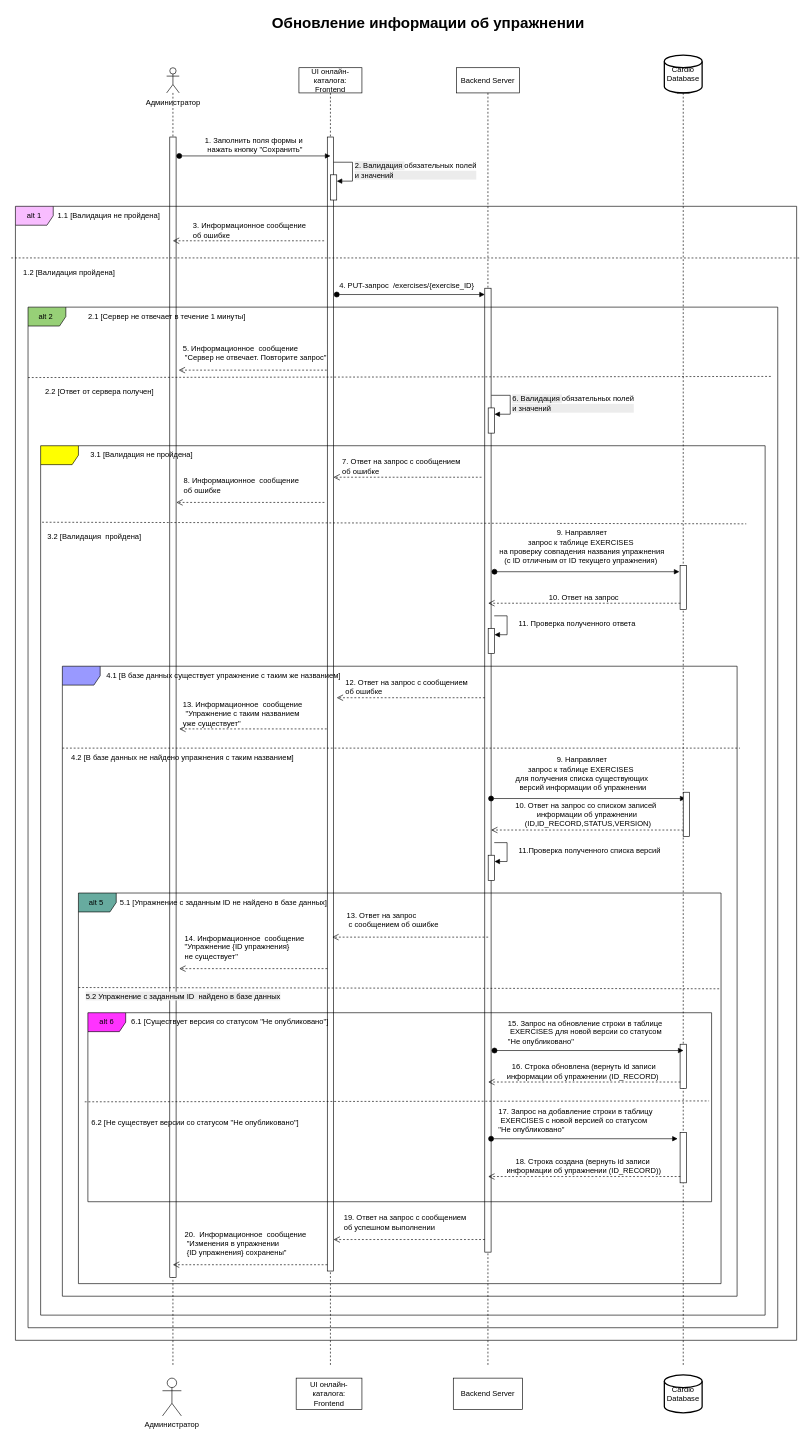
Image size: 811x1440. Some labels were removed from this diagram. Here are the shapes that lost their labels. From the top down, the box of each, then its label:
(40, 445, 765, 1315): alt 3
(62, 666, 737, 1296): alt 4
